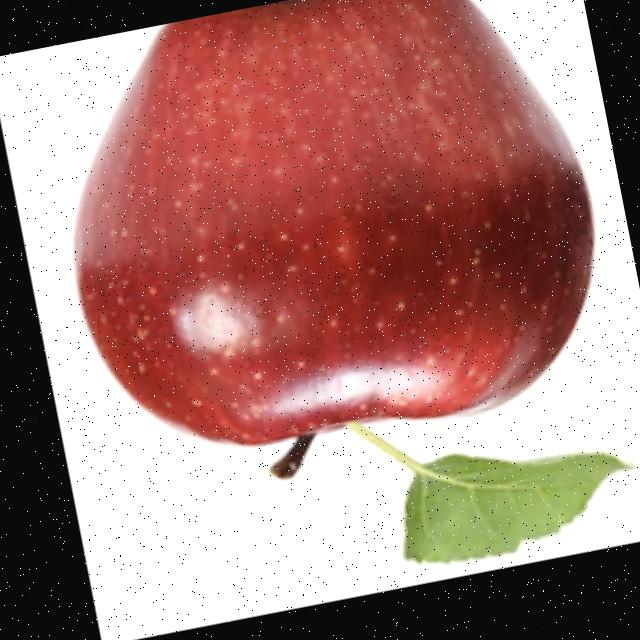Ripe: (23, 0, 640, 511)
